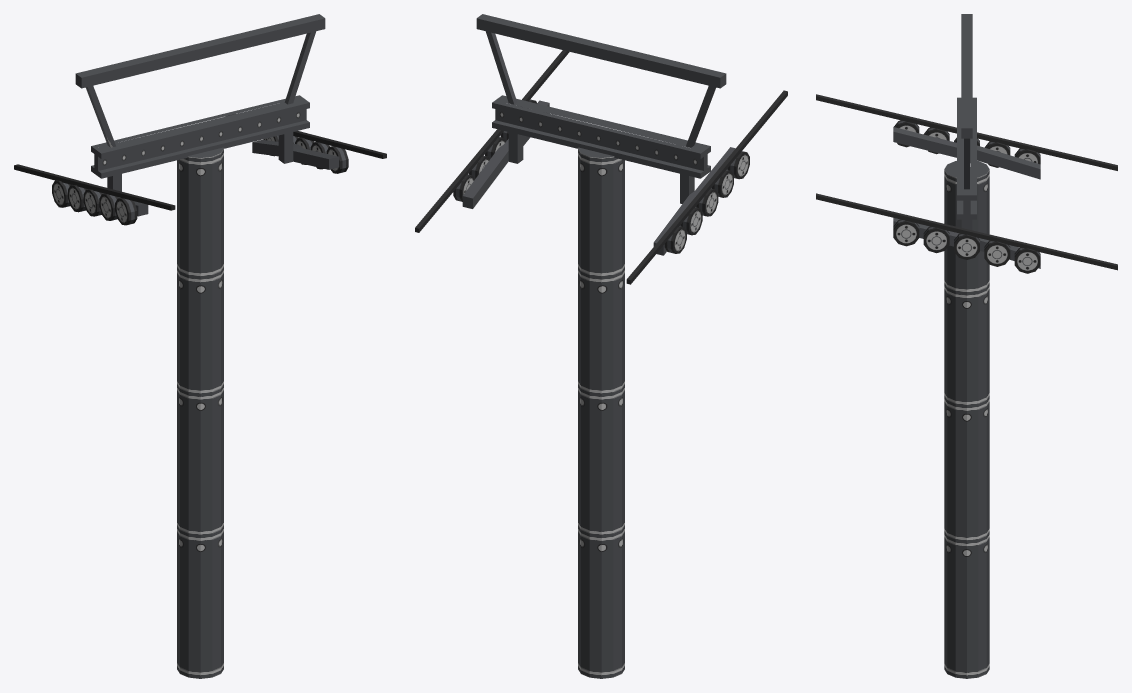
The model's file is e122b84a-4ab8-4b51-bad9-0defb84d8382.glb.
3 views of the same model, side by side, from view 1: azimuth 30°, elevation 25°; view 2: azimuth 150°, elevation 25°; view 3: azimuth 270°, elevation 25° (orthographic). The views are drawn at different scales.
Parts seen in each view (by area): view 1: Pillar1, Cable10, Cable11; view 2: Pillar1, Cable10, Cable11; view 3: Pillar1, Cable11, Cable10, Roller39, Roller38, Roller36, Roller35, Roller37.
Boxes of the visible parts, x1,y1,x2,y2 form: Pillar1: (75, 14, 339, 678); Cable10: (14, 164, 175, 210); Cable11: (228, 114, 386, 158); Pillar1: (462, 14, 735, 678); Cable10: (626, 90, 787, 284); Cable11: (415, 50, 569, 232); Pillar1: (893, 14, 1040, 678); Cable11: (816, 193, 1117, 270); Cable10: (816, 94, 1117, 170); Roller39: (893, 219, 919, 246); Roller38: (923, 226, 949, 253); Roller36: (984, 240, 1010, 266); Roller35: (1014, 247, 1040, 273); Roller37: (954, 233, 979, 259).
Bounding box in the file's own units: 357 × 872 × 399.
1 material, 1 textured.
